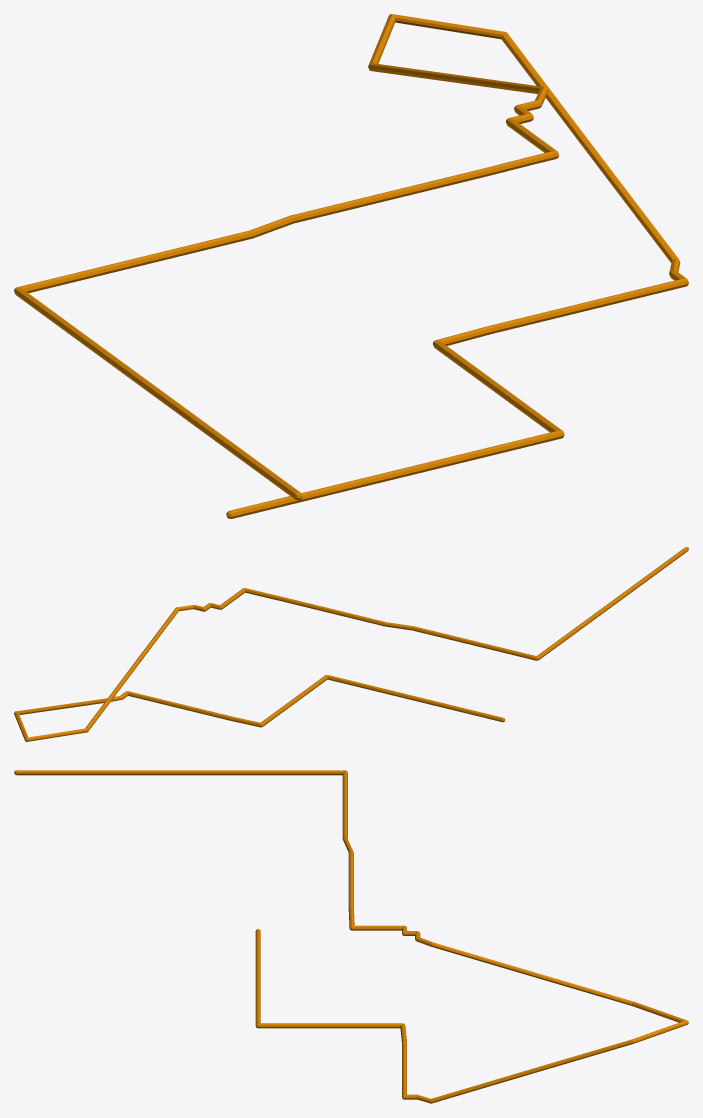
3 views of the same model, one above another, from view 1: azimuth 30°, elevation 25°; view 2: azimuth 150°, elevation 25°; view 3: azimuth 270°, elevation 25° (orthographic). The views are drawn at different scales.
Bounding box in the file's own units: 1905 × 520 × 2567.
